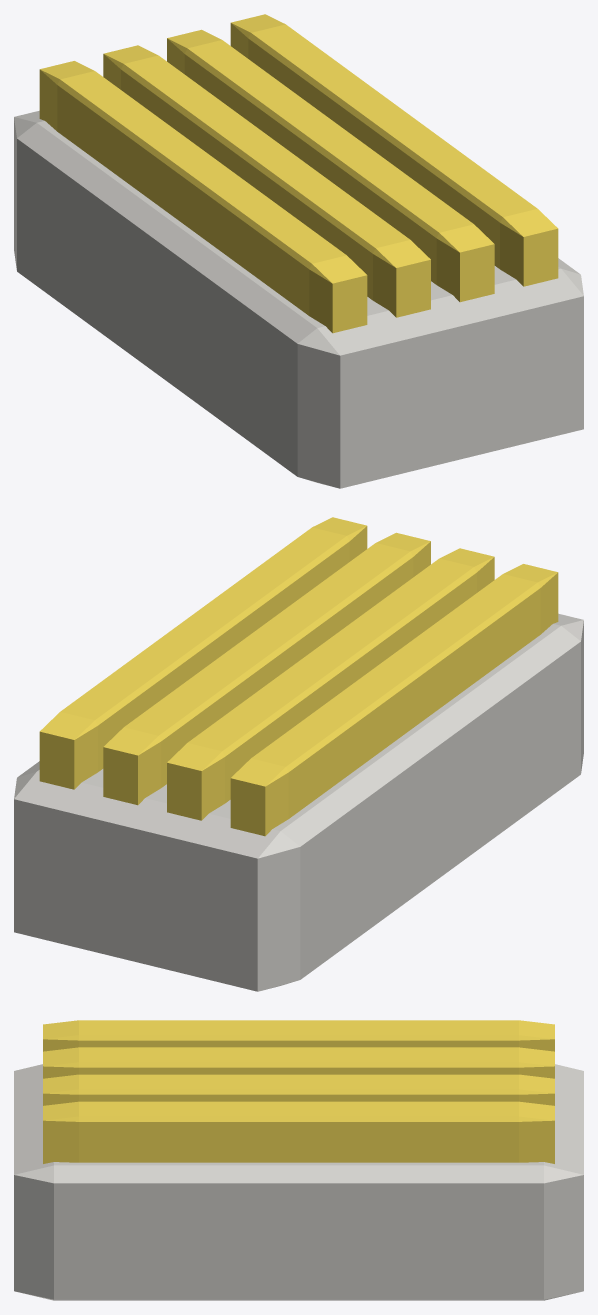
The model's file is b13_sunken_transit_ramp_entrance.glb.
3 renders of one model, top to bottom at view 1: azimuth 30°, elevation 25°; view 2: azimuth 150°, elevation 25°; view 3: azimuth 270°, elevation 25°, orthographic. The views are drawn at different scales.
Parts seen in each view (by area): view 1: b13_sunken_transit_ramp_entrance; view 2: b13_sunken_transit_ramp_entrance; view 3: b13_sunken_transit_ramp_entrance.
Boxes of the visible parts, bbox=[...] form: b13_sunken_transit_ramp_entrance: bbox=[14, 14, 583, 488]; b13_sunken_transit_ramp_entrance: bbox=[14, 517, 583, 991]; b13_sunken_transit_ramp_entrance: bbox=[14, 1020, 583, 1300].
Bounding box in the file's own units: 2.81 × 1.96 × 5.6.
